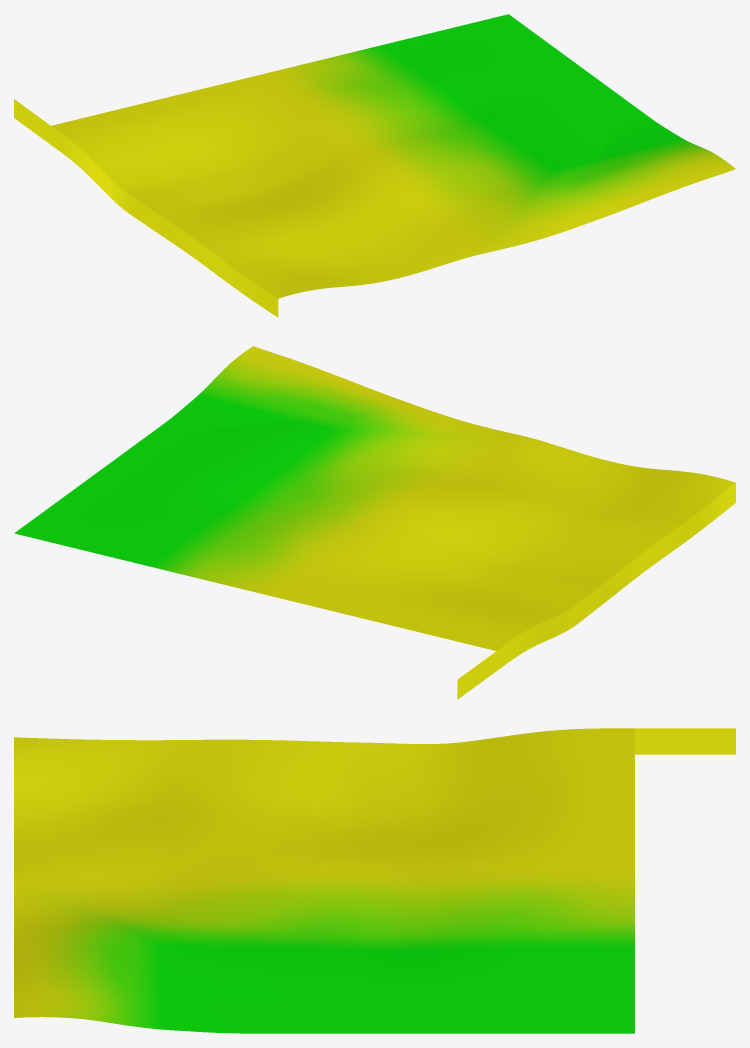
The model's file is terrain_0_1.glb.
The picture shows the model from 3 angles, top to bottom: view 1: azimuth 30°, elevation 25°; view 2: azimuth 150°, elevation 25°; view 3: azimuth 270°, elevation 25°; orthographic projection. The views are drawn at different scales.
Parts seen in each view (by area): view 1: terrain_0_1.0, terrain_0_1.1; view 2: terrain_0_1.0, terrain_0_1.1; view 3: terrain_0_1.0, terrain_0_1.1.
Boxes of the visible parts, bbox=[...] form: terrain_0_1.0: bbox=[51, 14, 735, 298]; terrain_0_1.1: bbox=[14, 99, 278, 317]; terrain_0_1.0: bbox=[14, 346, 735, 650]; terrain_0_1.1: bbox=[457, 483, 735, 699]; terrain_0_1.0: bbox=[14, 728, 634, 1033]; terrain_0_1.1: bbox=[635, 728, 735, 754].
Size of the model in its own units: 50 by 4.46 by 50.
